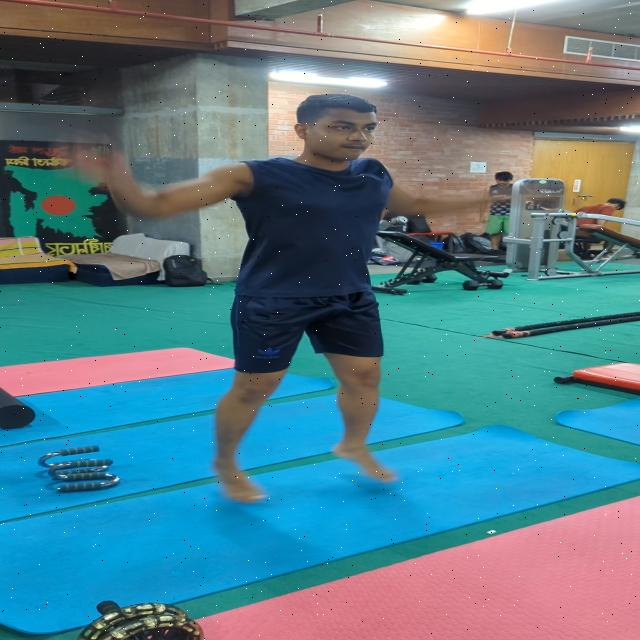Normal_JumpingJacks: (8, 104, 541, 480)
